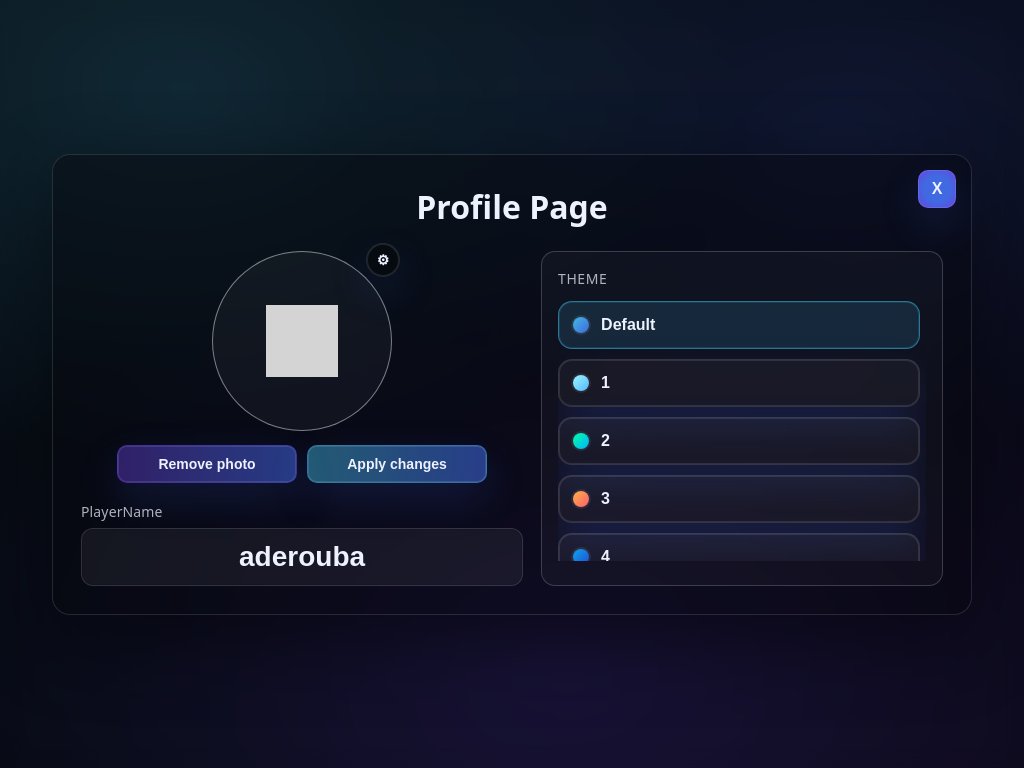
Scenario: Profile page › load default avatar on fetch fail
This screenshot has width=1024, height=768.
Click the button named "Open avatar list" at (383, 260), box left=366, top=242, right=400, bottom=276
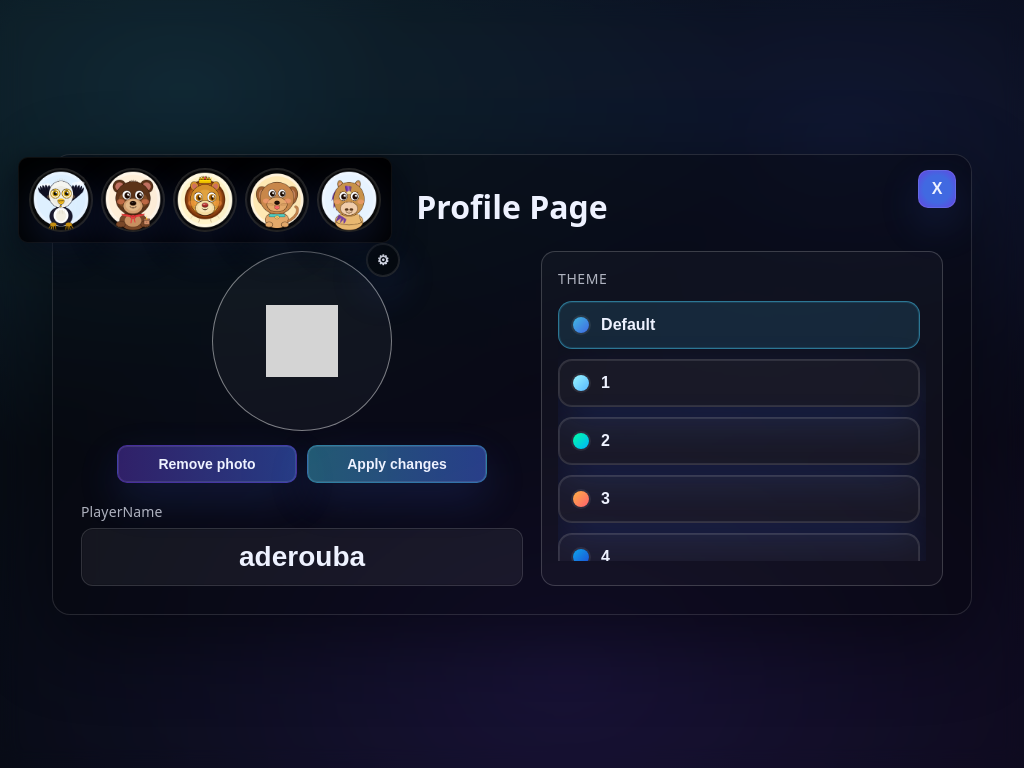
Expected: the picture with alt text "Avatar 1" is shown, left=30, top=168, right=92, bottom=231
Expected: the picture with alt text "Avatar 2" is shown, left=102, top=168, right=164, bottom=231
Expected: the picture with alt text "Avatar 3" is shown, left=174, top=168, right=236, bottom=230
